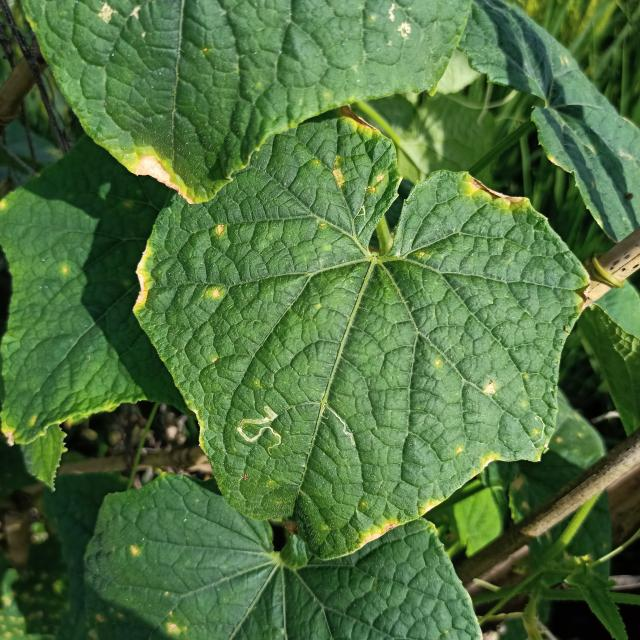disease_cucumber: (324, 113, 392, 204), (452, 440, 504, 468), (207, 284, 225, 304), (481, 378, 502, 393), (211, 223, 229, 240)
